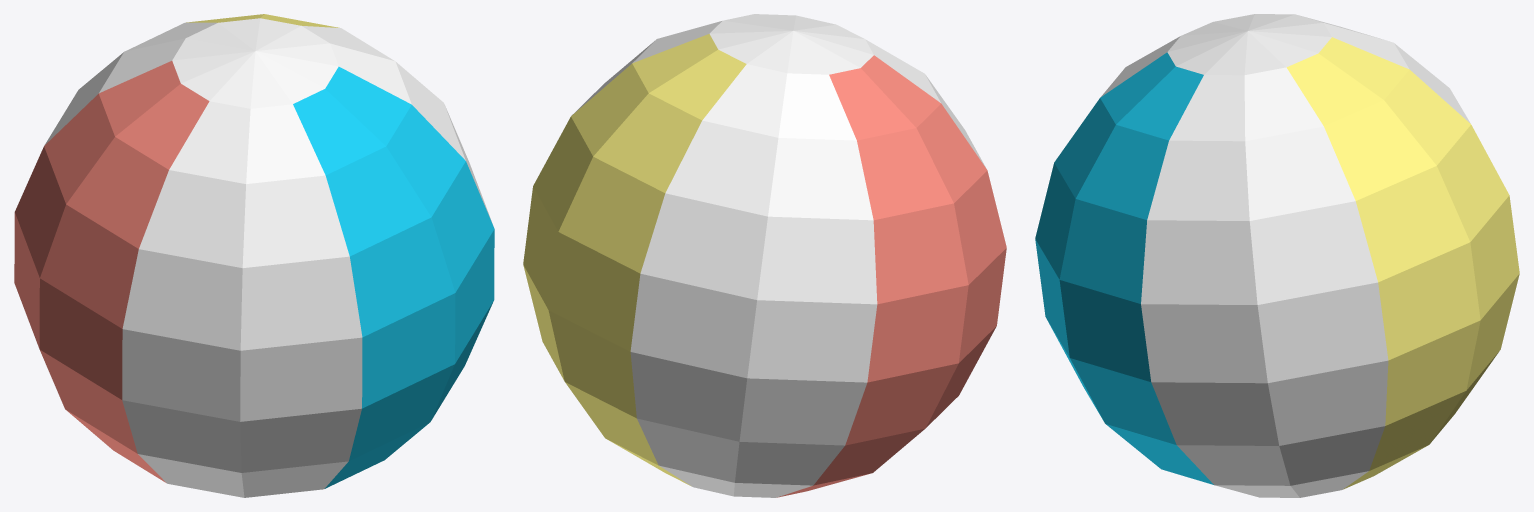
The model's file is ball.glb.
3 views of the same model, side by side, from view 1: azimuth 30°, elevation 25°; view 2: azimuth 150°, elevation 25°; view 3: azimuth 270°, elevation 25° (orthographic).
Parts seen in each view (by area): view 1: group1179603571; view 2: group1179603571; view 3: group1179603571.
Boxes of the visible parts, x1,y1,x2,y2 form: group1179603571: [14, 14, 494, 497]; group1179603571: [523, 14, 1006, 497]; group1179603571: [1035, 14, 1519, 497].
Size of the model in its own units: 0.5956 by 0.5943 by 0.598.
